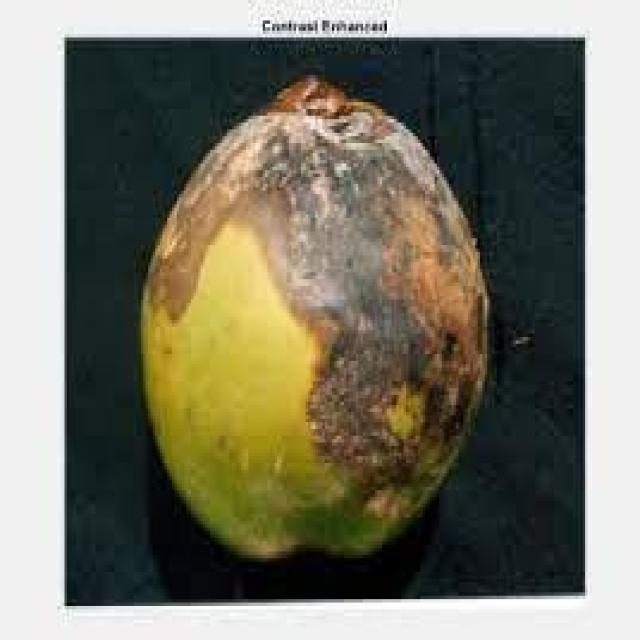damaged: (139, 71, 492, 582)
